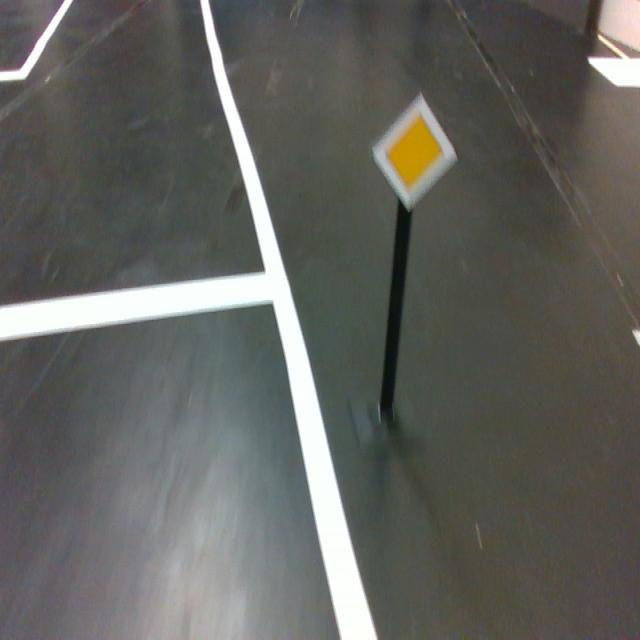priority-sign: (370, 90, 459, 214)
